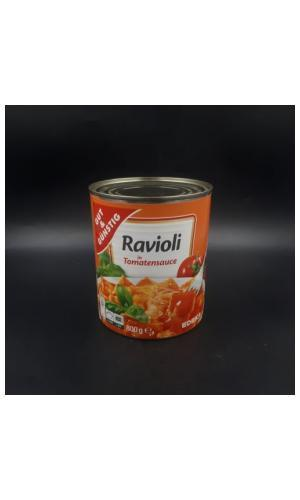metal: (89, 177, 212, 340)
